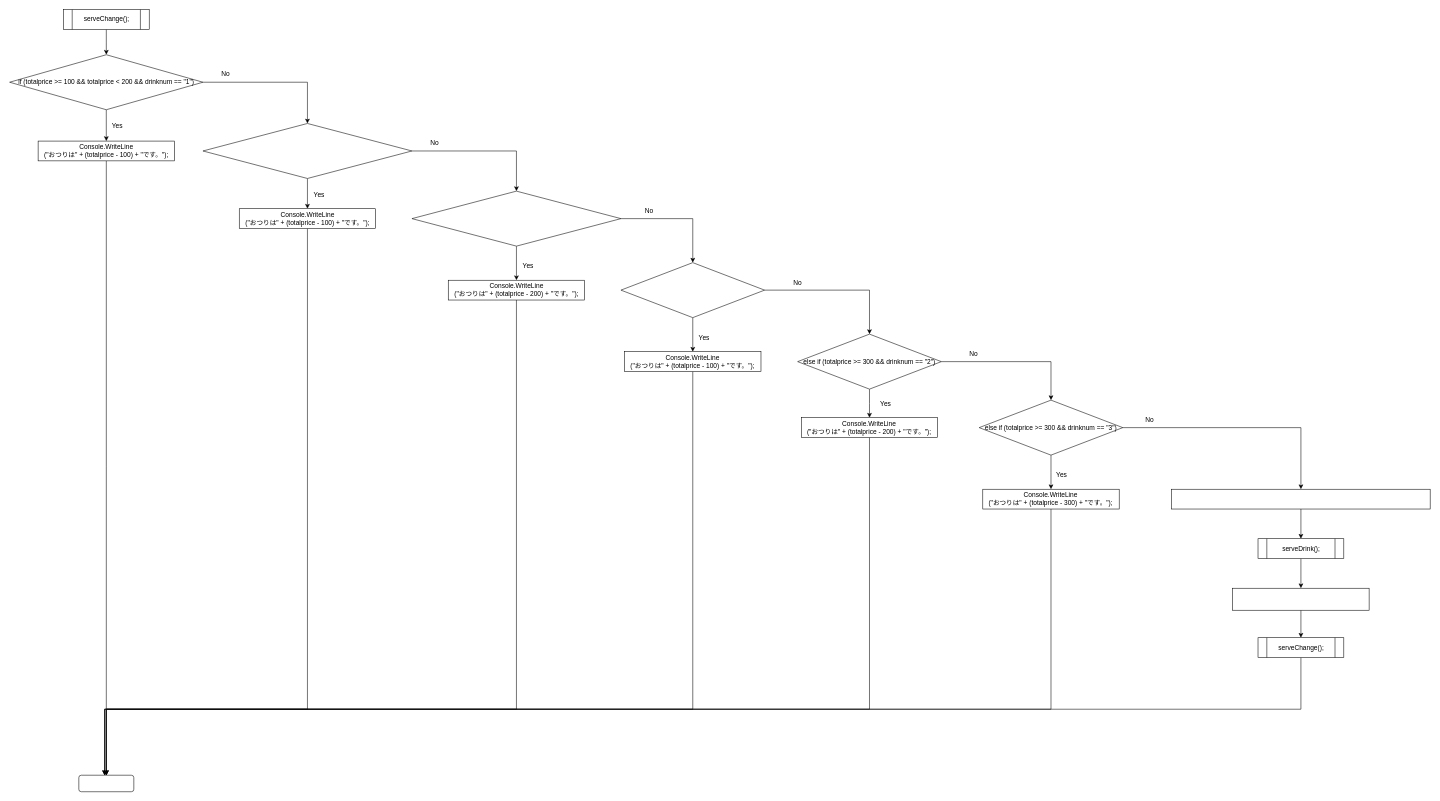
Some shapes in this 1440 by 801 pixel diagram are drawn without their labels. Each missing label, with the centre of its shape:
Console.WriteLine ("表示されている商品の番号を入力してください。（投入金額：" + totalprice + "円）");: pixel 1300 499
drinknum = Console.ReadLine();: pixel 1300 599
else if (totalprice >= 200 && totalprice < 300 && drinknum == "1"): pixel 307 150
else if (totalprice >= 200 && totalprice < 300 && drinknum == "2"): pixel 516 218
else if (totalprice >= 300 && drinknum == "1"): pixel 692 290
終了: pixel 106 783
